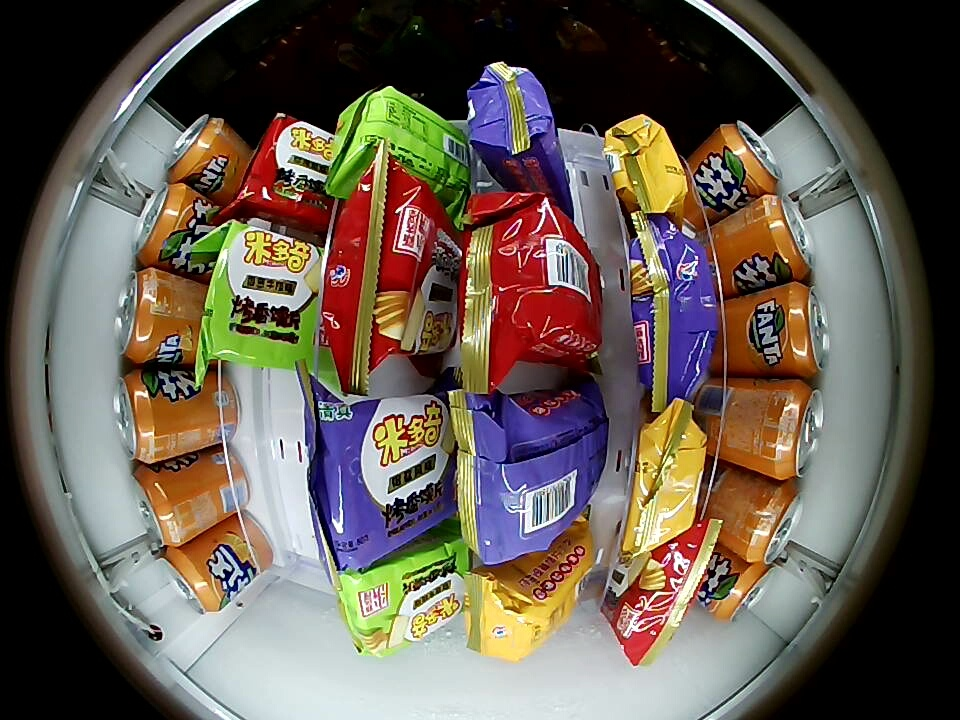fenda: (765, 380, 824, 481), (114, 268, 170, 364), (742, 483, 804, 565), (131, 182, 190, 267), (757, 194, 815, 280), (113, 369, 165, 463), (779, 283, 831, 376), (131, 465, 187, 546), (719, 121, 782, 193), (161, 544, 221, 615), (166, 115, 228, 183), (714, 560, 776, 623)
kaomo_gali: (469, 524, 594, 662), (620, 406, 712, 553), (603, 115, 694, 226)
kaomo_jiaoyan: (456, 385, 607, 564), (308, 394, 456, 571), (628, 218, 719, 404), (465, 64, 574, 209)
kaomo_shaokao: (321, 165, 459, 376), (460, 201, 604, 371), (606, 524, 719, 662), (238, 115, 339, 224)
kaomo_xiangcon: (202, 221, 328, 369), (327, 85, 473, 211), (335, 533, 468, 658)
